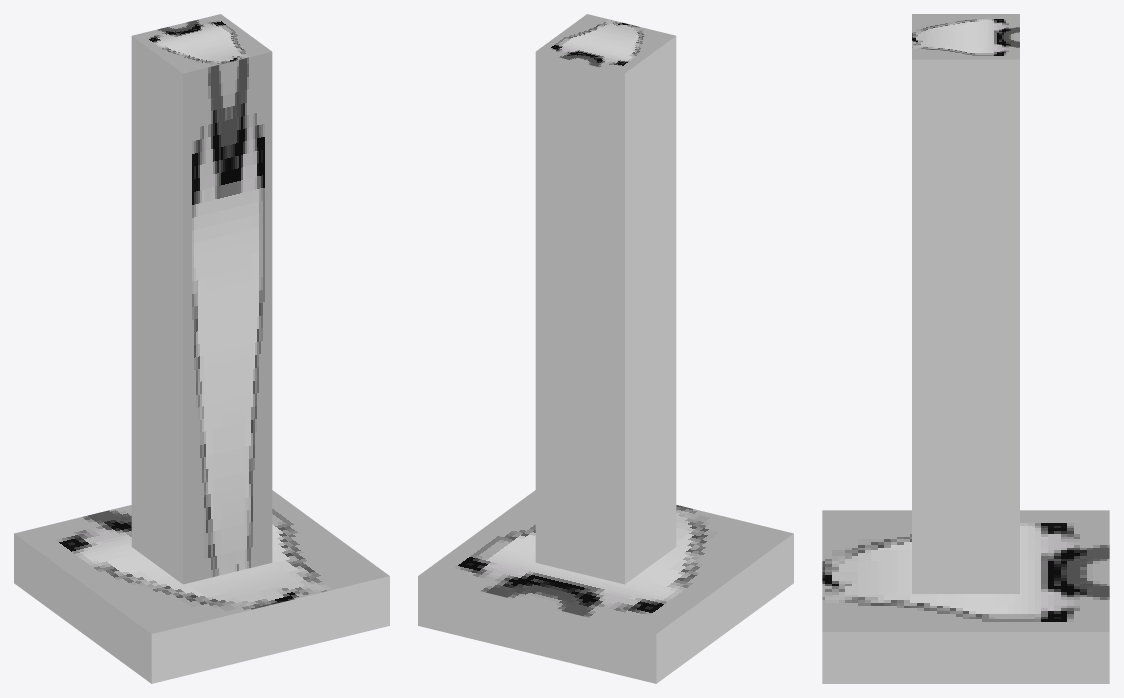
Rendered from Building_SacrificialFlag.glb.
The picture shows the model from 3 angles, left to right: view 1: azimuth 30°, elevation 25°; view 2: azimuth 150°, elevation 25°; view 3: azimuth 270°, elevation 25°; orthographic projection. The views are drawn at different scales.
Visible parts, largest first — view 1: SacrificialFlag; view 2: SacrificialFlag; view 3: SacrificialFlag.
Part boxes in pixels (left/top/right/bottom): SacrificialFlag: left=14, top=14, right=389, bottom=683; SacrificialFlag: left=418, top=14, right=793, bottom=683; SacrificialFlag: left=822, top=14, right=1109, bottom=683.
Size of the model in its own units: 0.8 by 1.8 by 0.8.
Materials: 1 (1 with a texture image).
